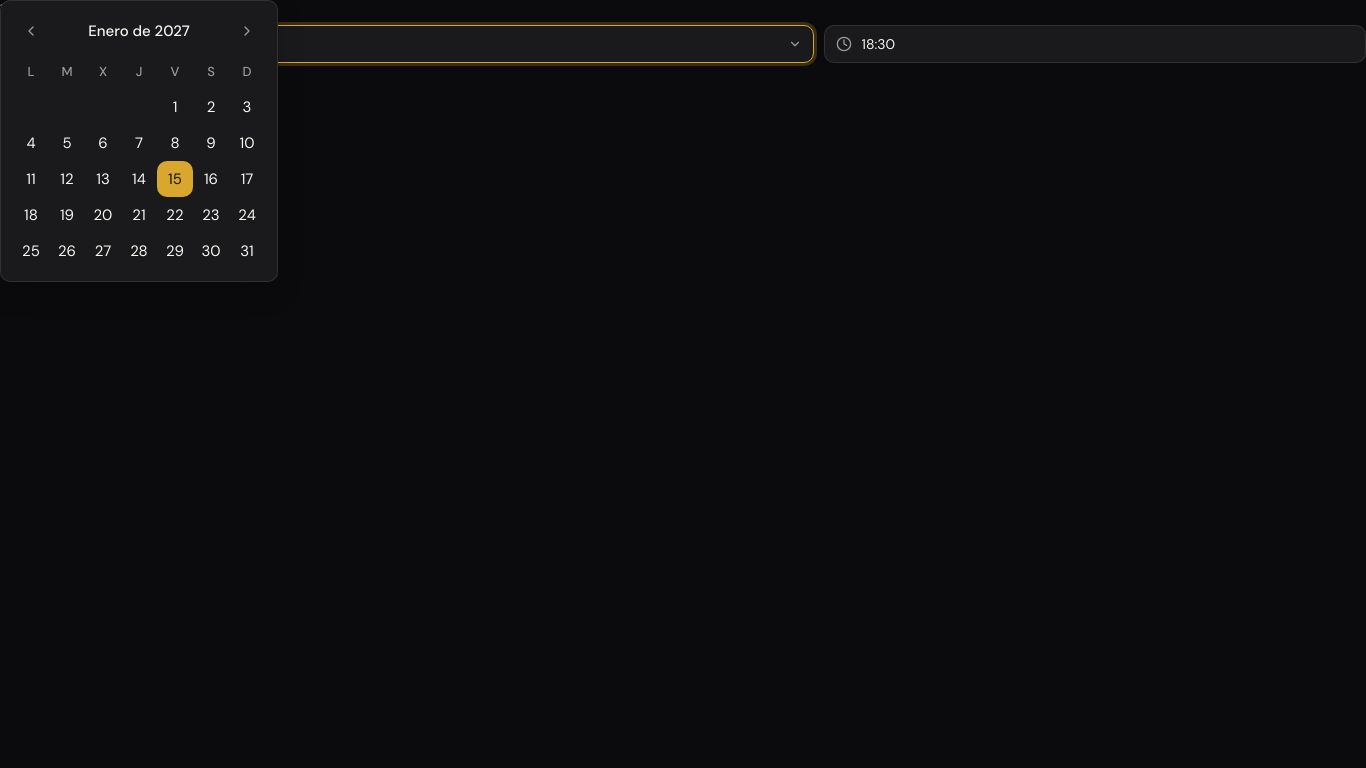
DatetimeFieldComponent › calendar popover › clicking a day in the grid does the same
The width and height of the screenshot is (1366, 768).
Step 1. Click the button "20" → (103, 215), box x1=85 y1=197 x2=121 y2=233
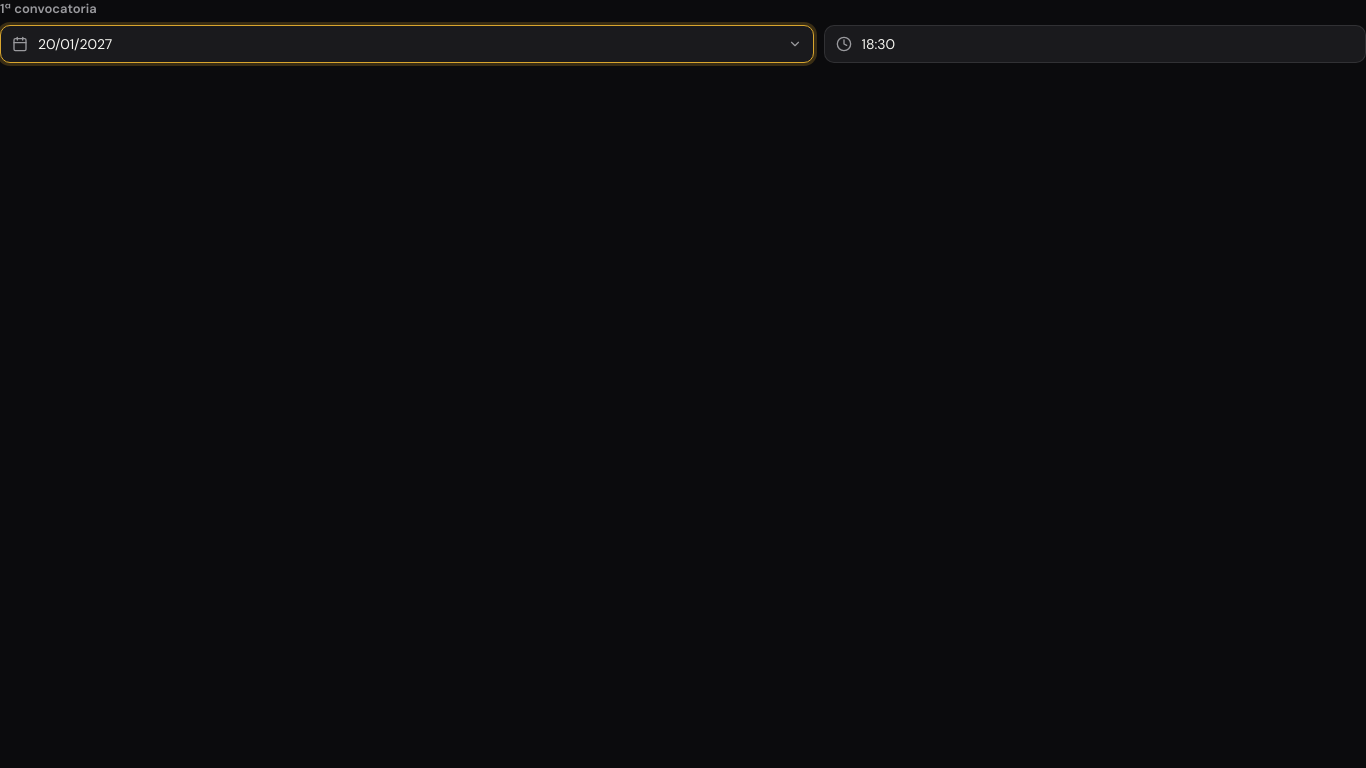
Expected: the dialog with class "dtf-pop" is gone
